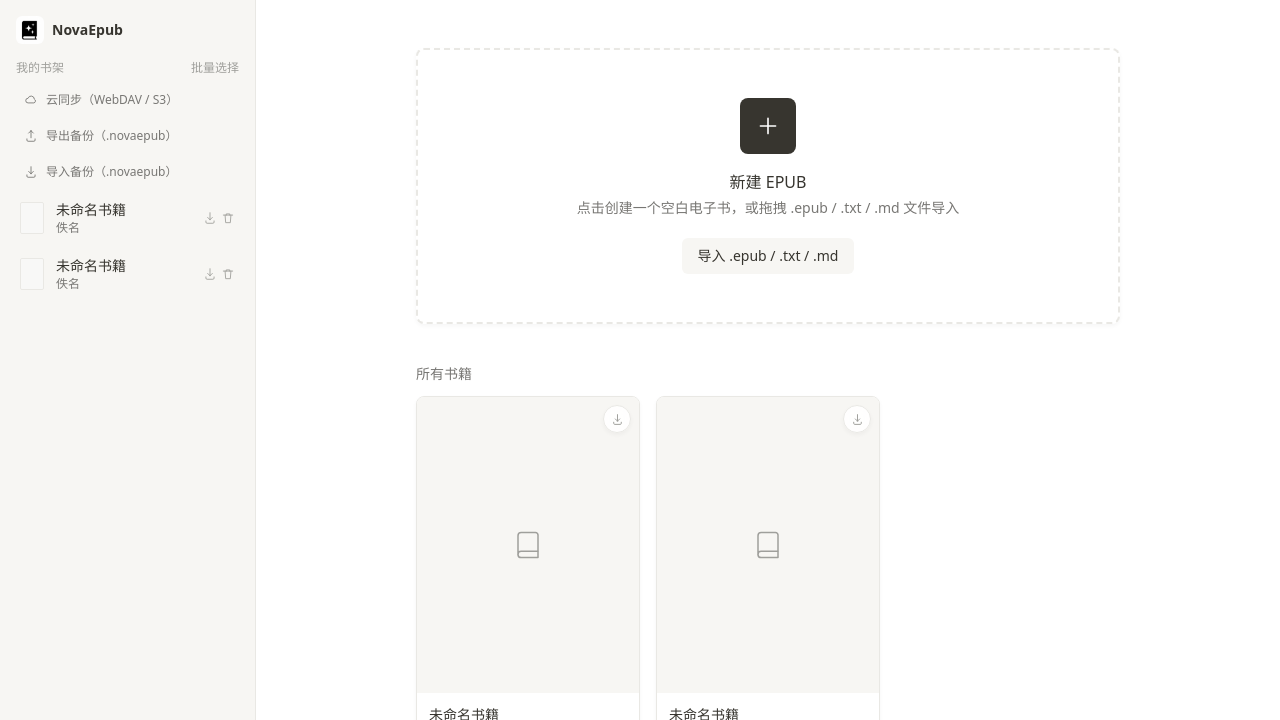
it: LibraryView › 未选中任何书时全选按钮可用；全选后禁用
What coordinates should you click on to do the following:
click the button "批量选择"
I would click on:
 (215, 68)
Its box is [191, 60, 239, 76].
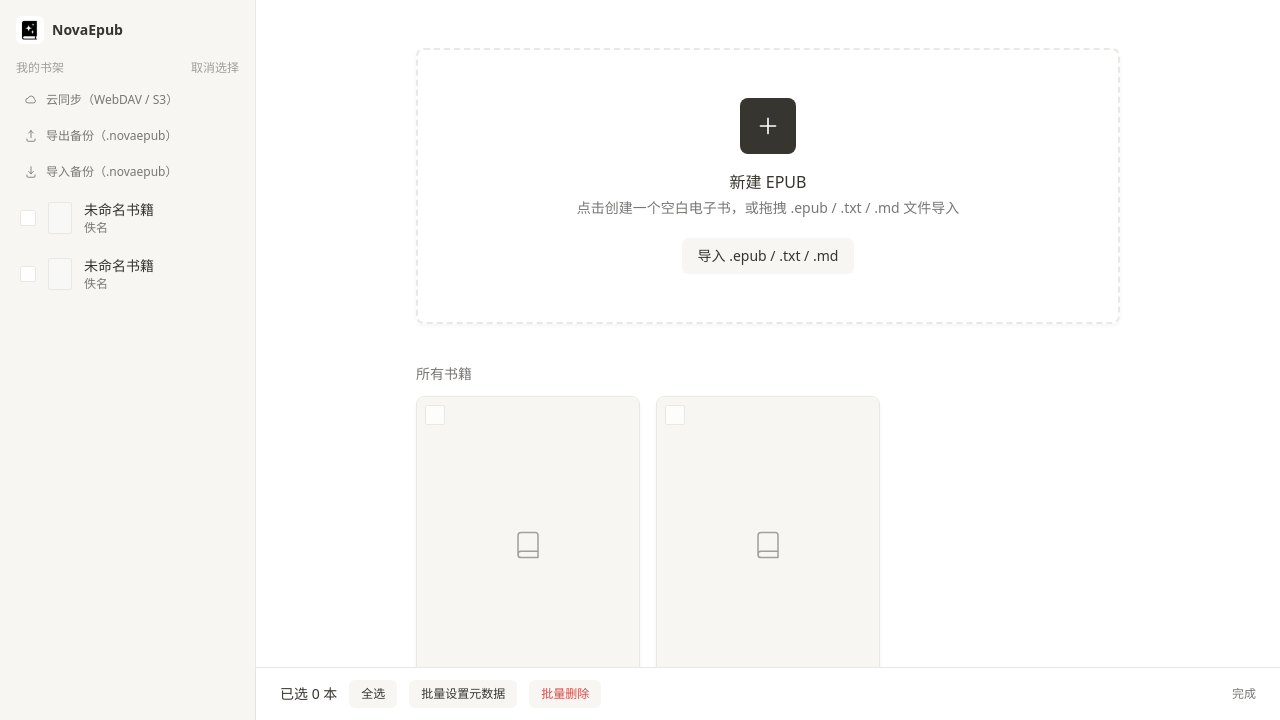
Check: the button "全选" is shown
Check: the button "全选" is enabled
What coordinates should you click on to do the following:
click the button "全选"
I would click on:
 (373, 694)
Its box is [349, 680, 397, 708].
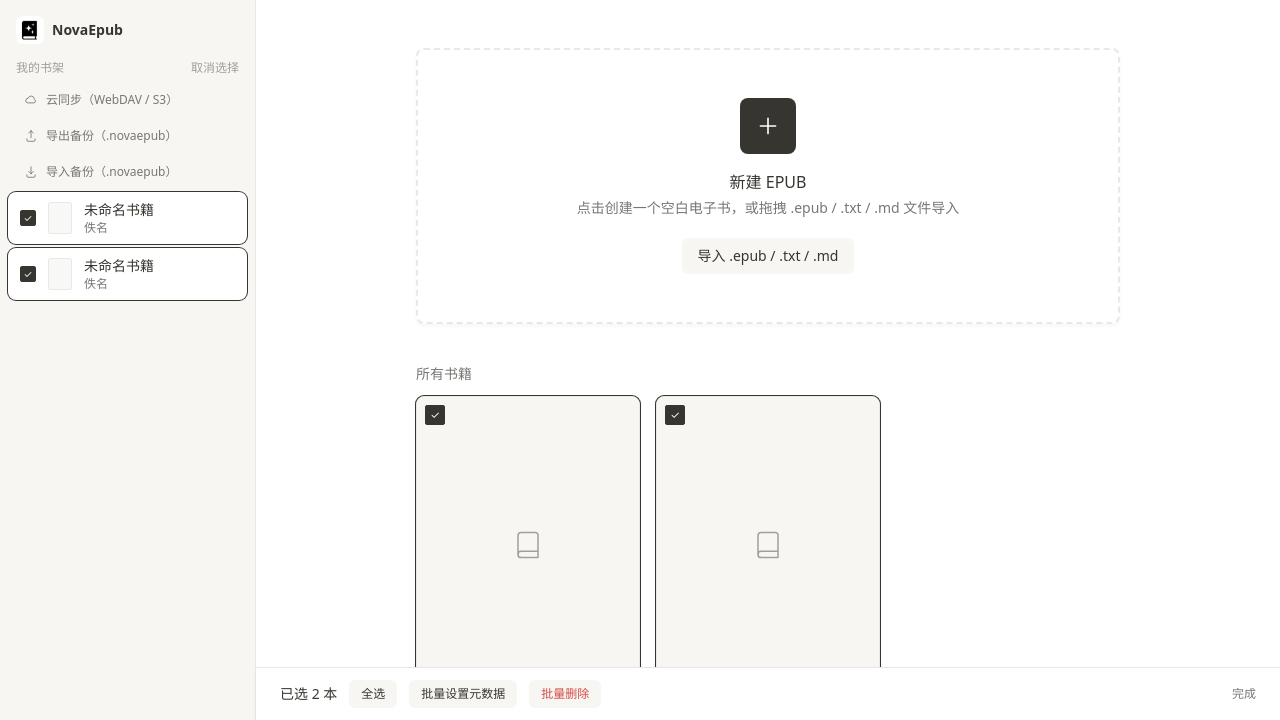
Check: the text "已选 2 本" is shown, box [280, 684, 337, 704]
